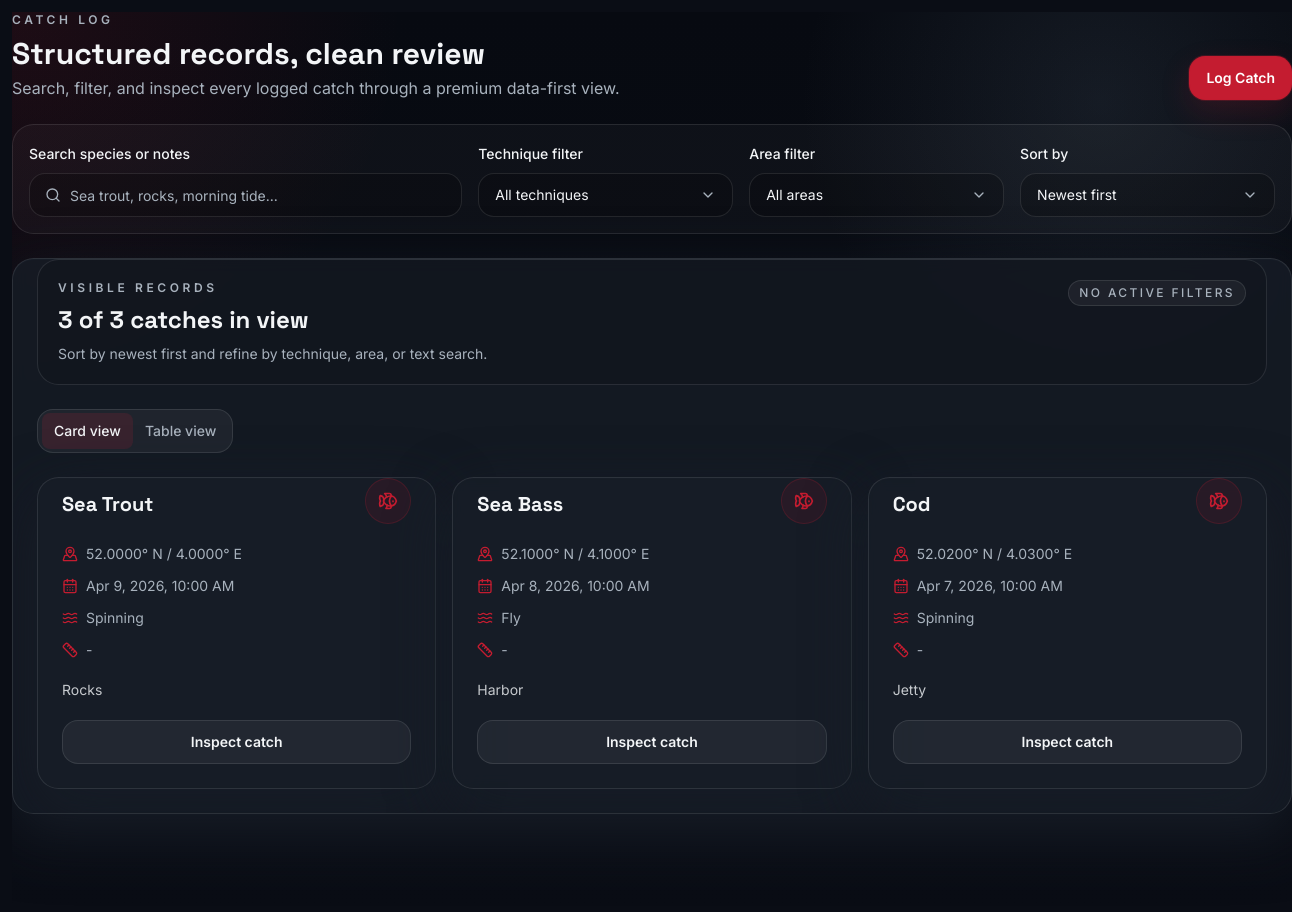
Test: CatchLogPage › filters catches by search text
This screenshot has width=1292, height=912.
Check: the heading "Sea Trout" is shown, box top-left (62, 490), bottom-right (153, 518)
Check: the heading "Sea Bass" is shown, box top-left (477, 490), bottom-right (563, 518)
Type "trout" into the field labelled "Search species or notes" at (246, 195), box top-left (29, 173), bottom-right (462, 217)
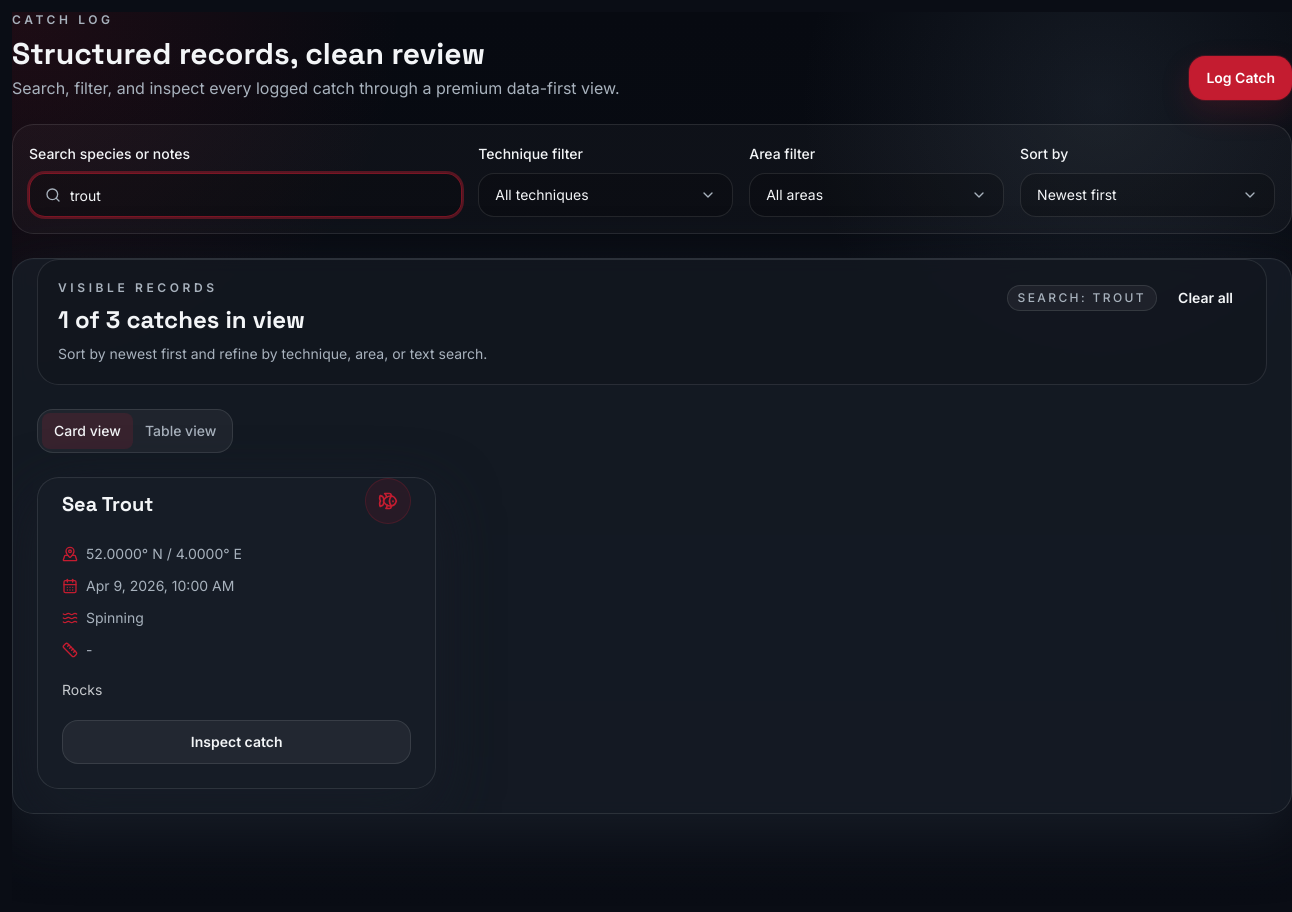
Check: the heading "Sea Trout" is shown, box top-left (62, 490), bottom-right (153, 518)
Check: the heading "Sea Bass" is gone
